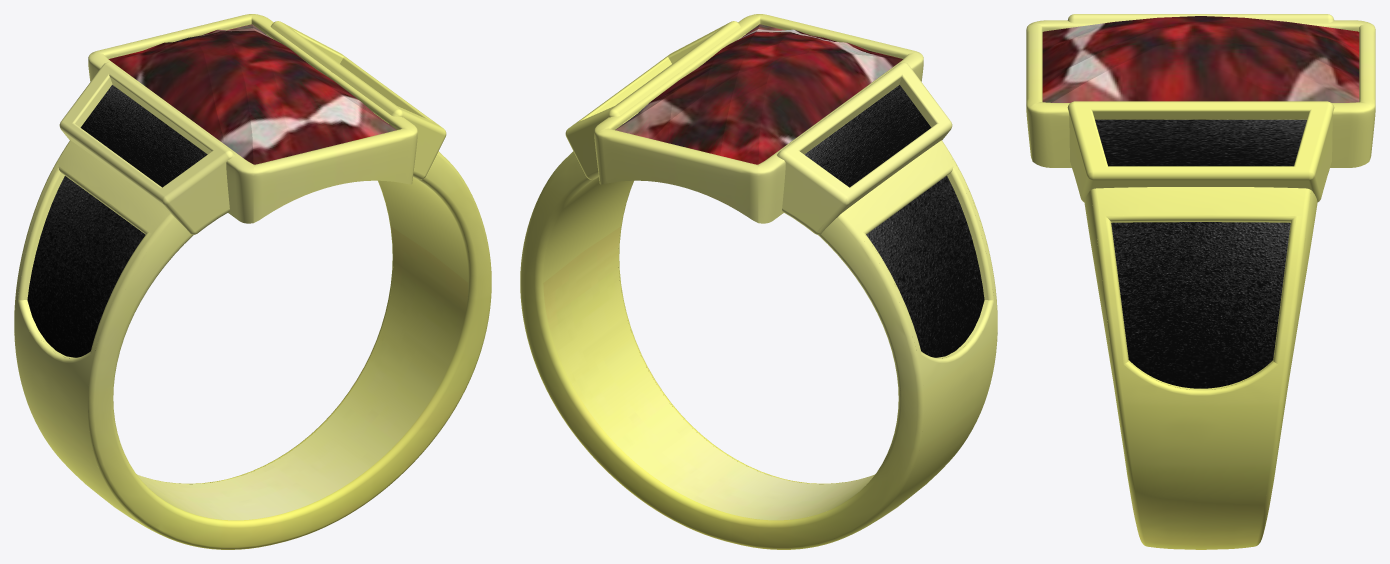
The model's file is ring20.glb.
3 views of the same model, side by side, from view 1: azimuth 30°, elevation 25°; view 2: azimuth 150°, elevation 25°; view 3: azimuth 270°, elevation 25° (orthographic). The views are drawn at different scales.
Visible parts, largest first — view 1: body, core, black; view 2: body, core, black; view 3: body, black, core.
Part boxes in pixels (bbox=[...]): body: bbox=[14, 14, 491, 549]; core: bbox=[108, 24, 396, 164]; black: bbox=[27, 85, 207, 358]; body: bbox=[520, 14, 997, 549]; core: bbox=[615, 24, 903, 164]; black: bbox=[804, 85, 984, 358]; body: bbox=[1026, 14, 1375, 549]; black: bbox=[1095, 119, 1306, 388]; core: bbox=[1042, 16, 1359, 102].
Size of the model in its own units: 21.99 by 24.18 by 15.43.
Materials: 3 (3 with a texture image).
